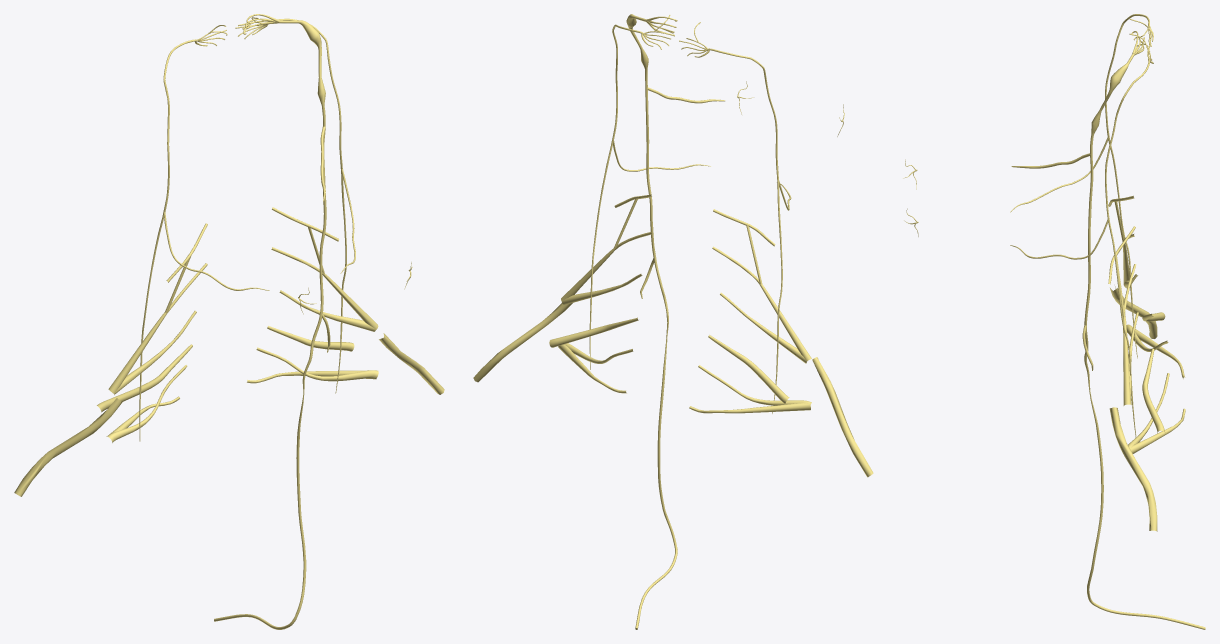
The model's file is nerfs-cou.lo.glb.
The picture shows the model from 3 angles, left to right: view 1: azimuth 30°, elevation 25°; view 2: azimuth 150°, elevation 25°; view 3: azimuth 270°, elevation 25°; orthographic projection. The views are drawn at different scales.
Visible parts, largest first — view 1: ZA-roots-of-brachial-plexus-d, ZA-vagus-nerve-x-g, ZA-roots-of-brachial-plexus-g, ZA-glossopharyngeal-nerve-ix-d, ZA-glossopharyngeal-nerve-ix-g, ZA-superior-trunk-of-brachial-plexus-d, ZA-superior-trunk-of-brachial-plexus-g; view 2: ZA-roots-of-brachial-plexus-d, ZA-vagus-nerve-x-g, ZA-roots-of-brachial-plexus-g, ZA-glossopharyngeal-nerve-ix-g, ZA-glossopharyngeal-nerve-ix-d, ZA-superior-trunk-of-brachial-plexus-d, ZA-superior-trunk-of-brachial-plexus-g; view 3: ZA-vagus-nerve-x-g, ZA-roots-of-brachial-plexus-g, ZA-glossopharyngeal-nerve-ix-g, ZA-roots-of-brachial-plexus-d, ZA-glossopharyngeal-nerve-ix-d, ZA-superior-trunk-of-brachial-plexus-g, ZA-superior-trunk-of-brachial-plexus-d.
Part boxes in pixels (bbox=[...]): ZA-roots-of-brachial-plexus-d: bbox=[97, 223, 207, 442]; ZA-vagus-nerve-x-g: bbox=[214, 14, 330, 629]; ZA-roots-of-brachial-plexus-g: bbox=[246, 207, 378, 383]; ZA-glossopharyngeal-nerve-ix-d: bbox=[139, 25, 269, 441]; ZA-glossopharyngeal-nerve-ix-g: bbox=[235, 17, 355, 393]; ZA-superior-trunk-of-brachial-plexus-d: bbox=[14, 398, 122, 496]; ZA-superior-trunk-of-brachial-plexus-g: bbox=[379, 333, 444, 394]; ZA-roots-of-brachial-plexus-d: bbox=[689, 209, 811, 413]; ZA-vagus-nerve-x-g: bbox=[626, 14, 725, 629]; ZA-roots-of-brachial-plexus-g: bbox=[549, 194, 651, 393]; ZA-glossopharyngeal-nerve-ix-g: bbox=[589, 15, 710, 369]; ZA-glossopharyngeal-nerve-ix-d: bbox=[679, 22, 791, 413]; ZA-superior-trunk-of-brachial-plexus-d: bbox=[812, 357, 873, 477]; ZA-superior-trunk-of-brachial-plexus-g: bbox=[473, 303, 572, 382]; ZA-vagus-nerve-x-g: bbox=[1011, 31, 1205, 629]; ZA-roots-of-brachial-plexus-g: bbox=[1108, 226, 1185, 453]; ZA-glossopharyngeal-nerve-ix-g: bbox=[1010, 33, 1153, 437]; ZA-roots-of-brachial-plexus-d: bbox=[1108, 195, 1185, 379]; ZA-glossopharyngeal-nerve-ix-d: bbox=[1010, 14, 1153, 358]; ZA-superior-trunk-of-brachial-plexus-g: bbox=[1109, 407, 1157, 531]; ZA-superior-trunk-of-brachial-plexus-d: bbox=[1110, 286, 1157, 338].
Bounding box in the file's own units: 0.1684 × 0.2373 × 0.1091.
